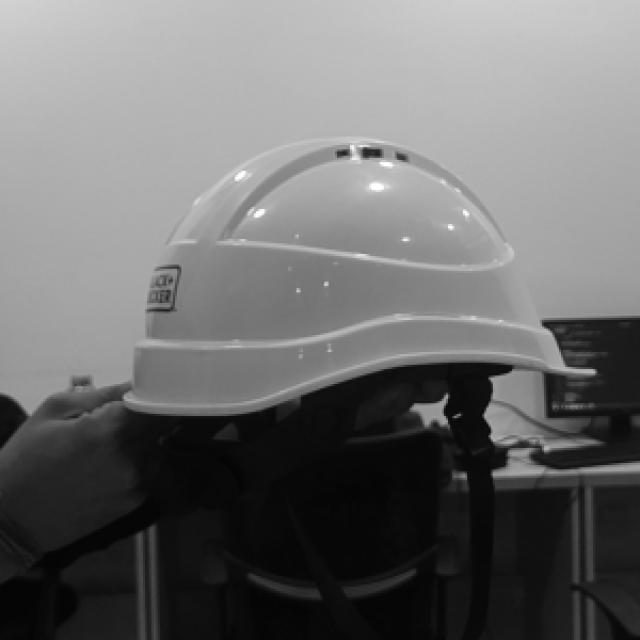safety_helmet: (124, 138, 597, 415)
